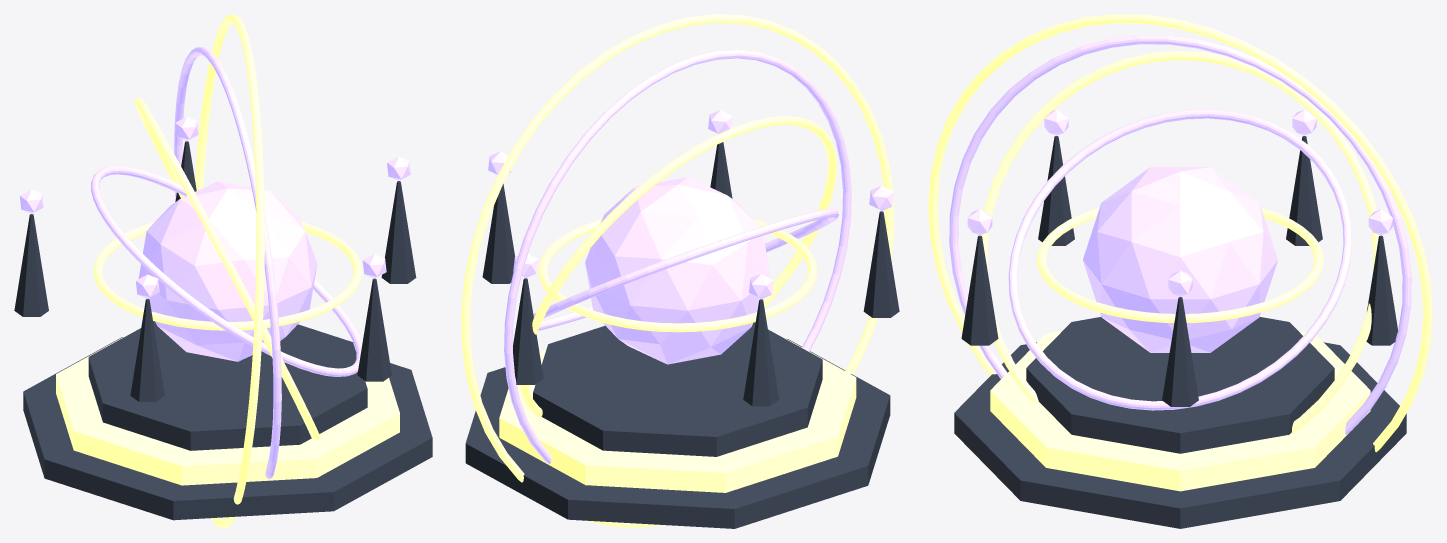
Rendered from gpu-blender-v49.glb.
The picture shows the model from 3 angles, left to right: view 1: azimuth 30°, elevation 25°; view 2: azimuth 150°, elevation 25°; view 3: azimuth 270°, elevation 25°; orthographic projection. The views are drawn at different scales.
Parts seen in each view (by area): view 1: Cylinder.002, Cylinder, SovereignCore_zoth-studio-v2, Cylinder.001, Torus.004, Torus.003, Torus.001, Torus, Torus.002, Cone.004, Cone.002, Cone.003 (+1 smaller); view 2: Cylinder.002, SovereignCore_zoth-studio-v2, Cylinder, Cylinder.001, Torus.004, Torus.003, Torus.002, Torus, Torus.001, Cone.002, Cone.003, Cone (+2 smaller); view 3: SovereignCore_zoth-studio-v2, Cylinder.002, Cylinder, Cylinder.001, Torus.004, Torus.001, Torus.003, Torus.002, Torus, Cone.004, Cone, Cone.001 (+2 smaller).
Part boxes in pixels (x1,y1,x2,y2): Cylinder.002: (88, 321, 367, 450); Cylinder: (23, 337, 432, 520); SovereignCore_zoth-studio-v2: (138, 181, 317, 361); Cylinder.001: (56, 328, 399, 485); Torus.004: (195, 14, 264, 528); Torus.003: (174, 46, 281, 478); Torus.001: (91, 166, 362, 376); Torus: (93, 221, 362, 330); Torus.002: (134, 97, 320, 440); Cone.004: (357, 278, 391, 381); Cone.002: (14, 214, 48, 316); Cone.003: (130, 299, 164, 401); Cylinder.002: (533, 322, 822, 456); SovereignCore_zoth-studio-v2: (585, 177, 770, 364); Cylinder: (465, 338, 890, 528); Cylinder.001: (499, 330, 856, 492); Torus.004: (461, 14, 894, 527); Torus.003: (504, 49, 851, 463); Torus.002: (519, 116, 836, 417); Torus: (538, 219, 817, 332); Torus.001: (533, 208, 838, 330); Cone.002: (743, 299, 778, 406); Cone.003: (863, 211, 899, 317); Cone: (482, 184, 514, 283); SovereignCore_zoth-studio-v2: (1083, 167, 1277, 352); Cylinder.002: (1026, 317, 1334, 453); Cylinder: (954, 342, 1406, 528); Cylinder.001: (990, 330, 1370, 491); Torus.004: (928, 14, 1432, 452); Torus.001: (1008, 109, 1352, 410); Torus.003: (949, 35, 1411, 434); Torus.002: (980, 50, 1380, 433); Torus: (1037, 207, 1323, 322); Cone.004: (961, 235, 998, 345); Cone: (1162, 297, 1198, 406); Cone.001: (1366, 235, 1397, 345).
Bounding box in the file's own units: 4.41 × 5.33 × 4.9.
